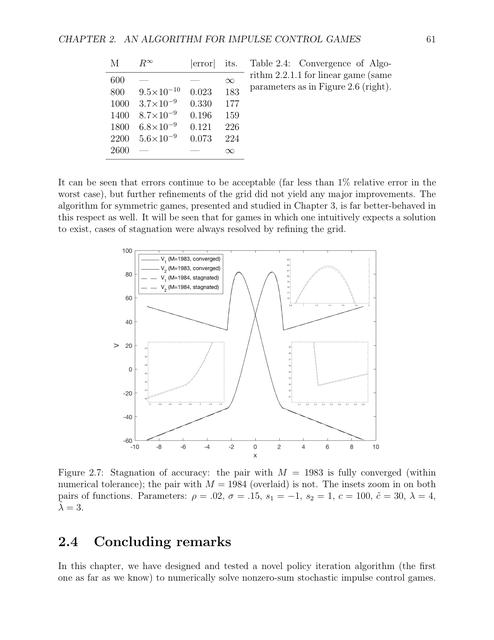box: (113, 245, 383, 460), (106, 56, 392, 164)
